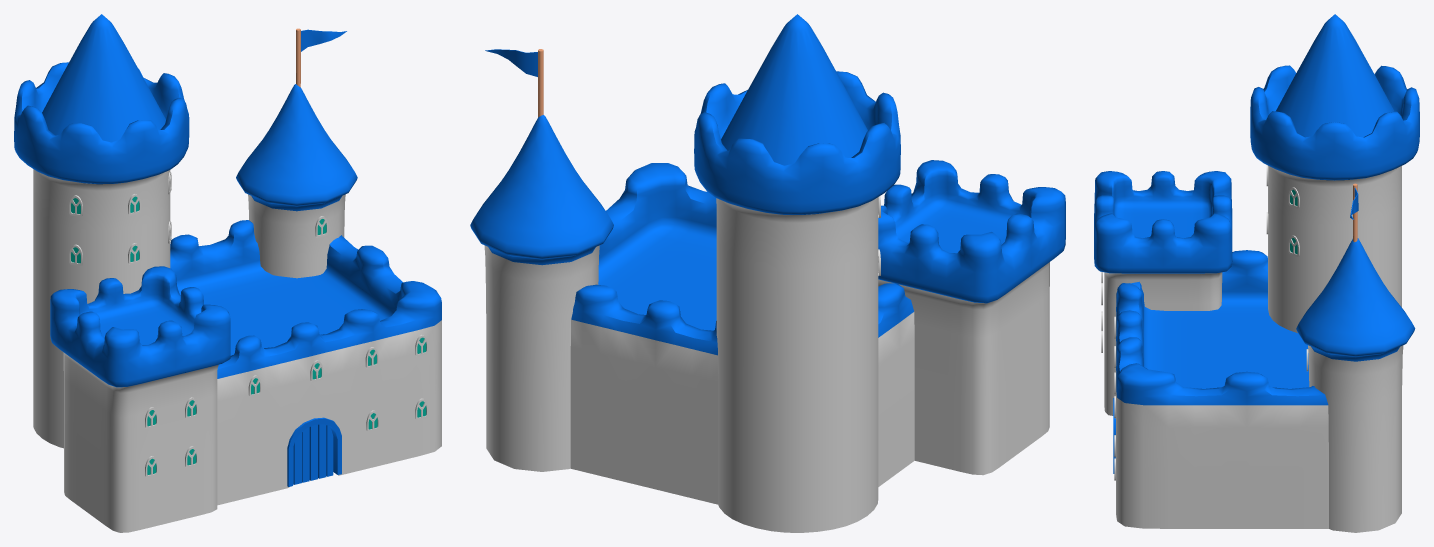
File: CS_Small_Castle_Stage01.fbx
The picture shows the model from 3 angles, left to right: view 1: azimuth 30°, elevation 25°; view 2: azimuth 150°, elevation 25°; view 3: azimuth 270°, elevation 25°; orthographic projection. The views are drawn at different scales.
Visible parts, largest first — view 1: Small_Castle_Stage1; view 2: Small_Castle_Stage1; view 3: Small_Castle_Stage1.
Boxes of the visible parts, x1,y1,x2,y2 form: Small_Castle_Stage1: (14, 14, 441, 532); Small_Castle_Stage1: (470, 14, 1065, 532); Small_Castle_Stage1: (1094, 14, 1419, 532).
Bounding box in the file's own units: 675 × 720 × 528.
